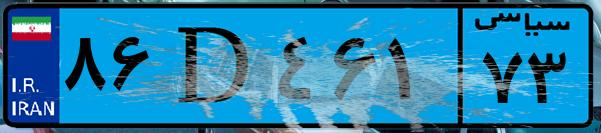1: (385, 28, 445, 110)
3: (525, 38, 570, 115)
4: (270, 28, 330, 110)
6: (330, 28, 385, 110), (110, 28, 158, 98)
7: (475, 38, 525, 113)
8: (57, 26, 110, 100)
D: (158, 12, 270, 120)
